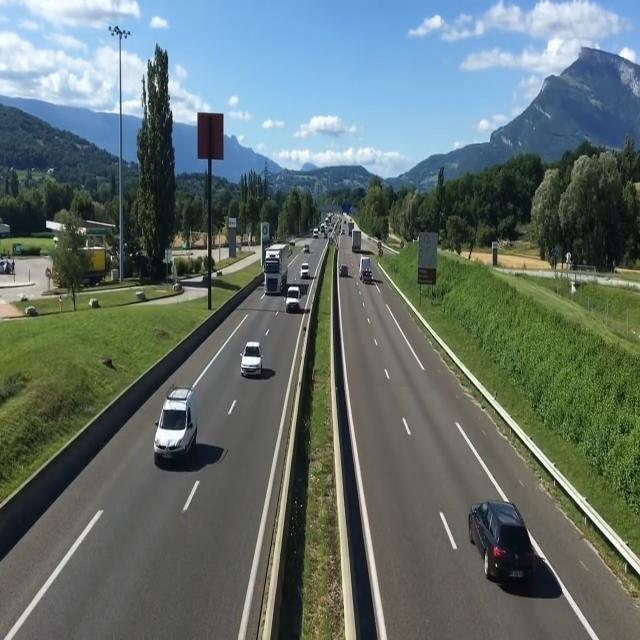Car: (466, 476, 540, 602), (139, 384, 203, 474), (232, 329, 273, 388), (280, 287, 304, 318), (295, 259, 318, 285)
Truck: (260, 239, 291, 300), (348, 228, 364, 253)
